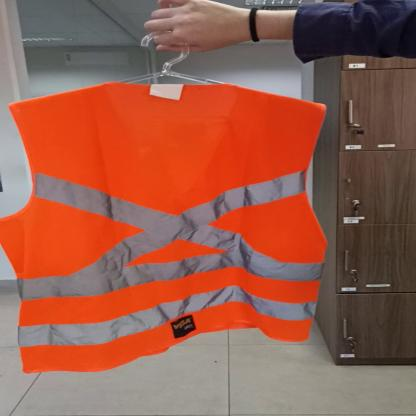colete: (1, 79, 331, 374)
